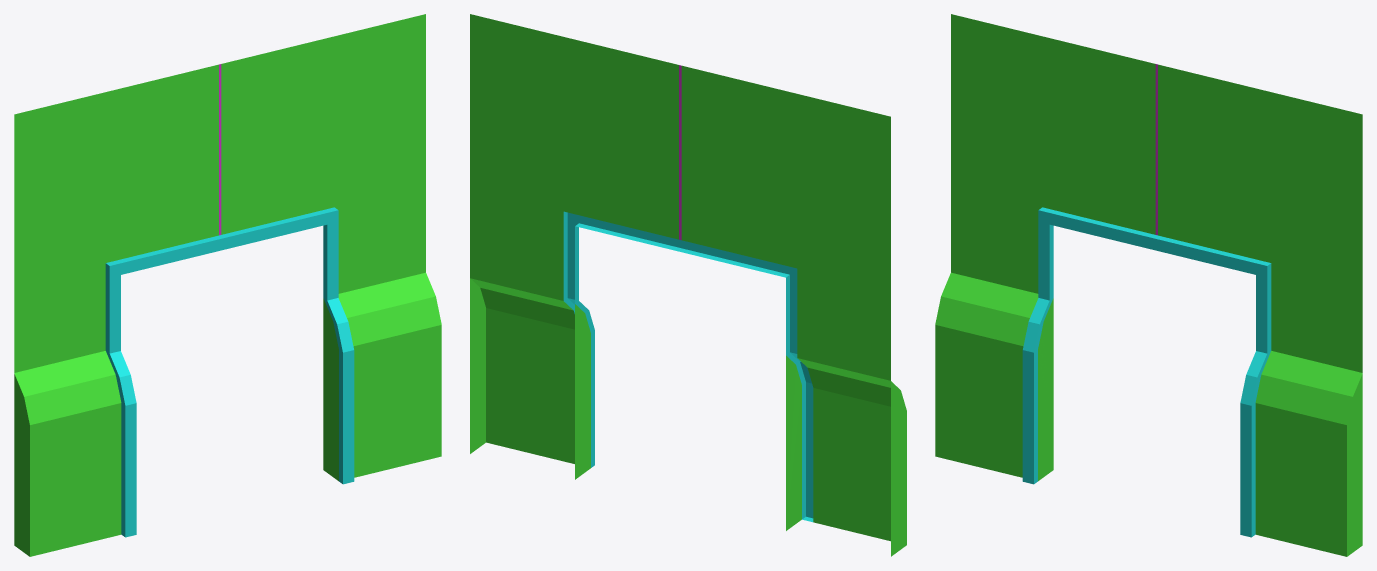
Rendered from Wall_43_Door.fbx.
3 views of the same model, side by side, from view 1: azimuth 30°, elevation 25°; view 2: azimuth 150°, elevation 25°; view 3: azimuth 330°, elevation 25° (orthographic). The views are drawn at different scales.
Visible parts, largest first — view 1: Wall_43_Door; view 2: Wall_43_Door; view 3: Wall_43_Door.
Part boxes in pixels (x1=…): Wall_43_Door: x1=14, y1=14, x2=441, y2=556; Wall_43_Door: x1=470, y1=14, x2=906, y2=556; Wall_43_Door: x1=935, y1=14, x2=1362, y2=556.
Size of the model in its own units: 457 by 457 by 37.86.
